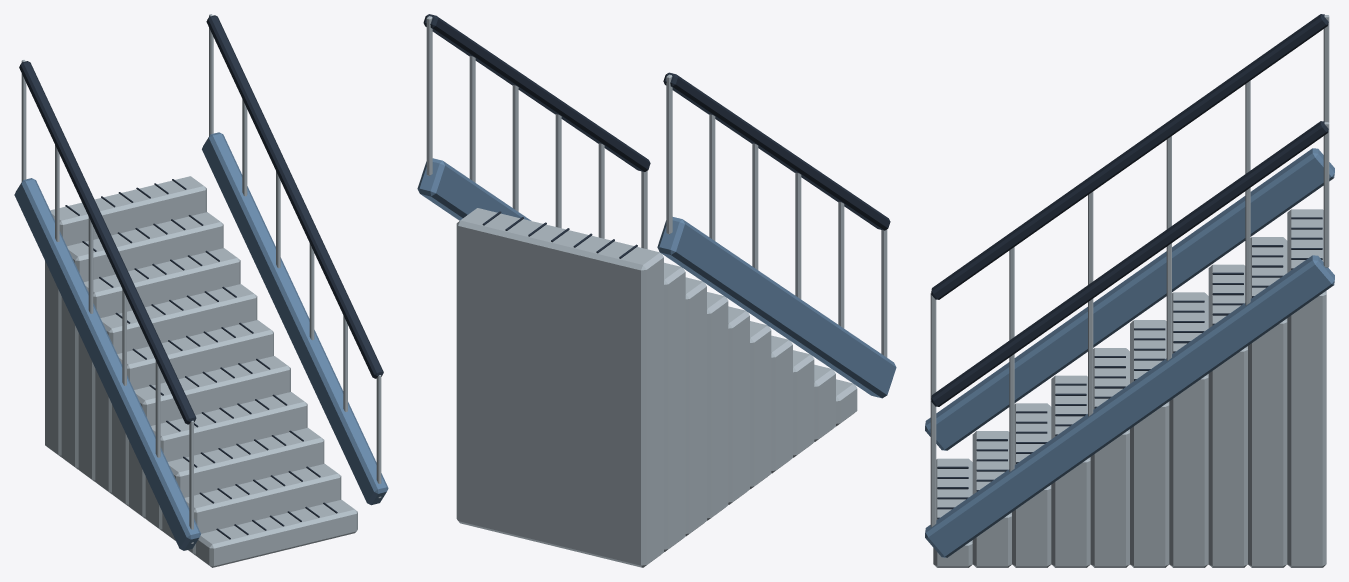
The model's file is mall_09.glb.
3 views of the same model, side by side, from view 1: azimuth 30°, elevation 25°; view 2: azimuth 150°, elevation 25°; view 3: azimuth 270°, elevation 25° (orthographic). The views are drawn at different scales.
Parts seen in each view (by area): view 1: EscalatorStep (×10), EscalatorSkirt (×2), Handrail (×2), BalustradePost (×8); view 2: EscalatorStep (×10), EscalatorSkirt (×2), BalustradePost (×11), Handrail (×2); view 3: EscalatorStep (×10), EscalatorSkirt (×2), Handrail (×2), BalustradePost (×12).
Part boxes in pixels (x1,y1,x2,y2): EscalatorStep (×10): (45,176,357,567); EscalatorSkirt (×2): (14,132,388,550); Handrail (×2): (19,15,383,424); BalustradePost (×8): (21,14,381,543); EscalatorStep (×10): (456,208,857,567); EscalatorSkirt (×2): (417,158,896,398); BalustradePost (×11): (426,16,887,357); Handrail (×2): (423,14,890,230); EscalatorStep (×10): (933,209,1326,567); EscalatorSkirt (×2): (925,148,1334,557); Handrail (×2): (931,14,1328,406); BalustradePost (×12): (930,15,1329,527).
Size of the model in its own units: 1.25 by 2.32 by 1.88.
